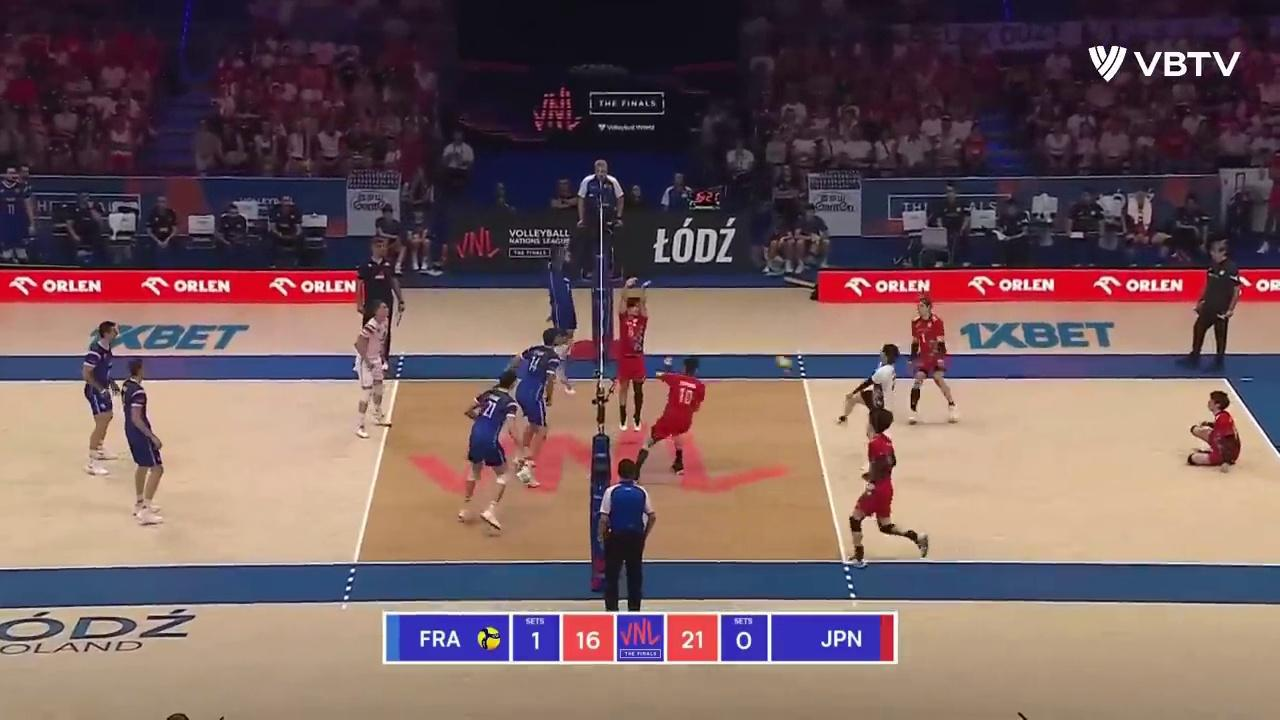ball: (778, 358, 793, 372)
